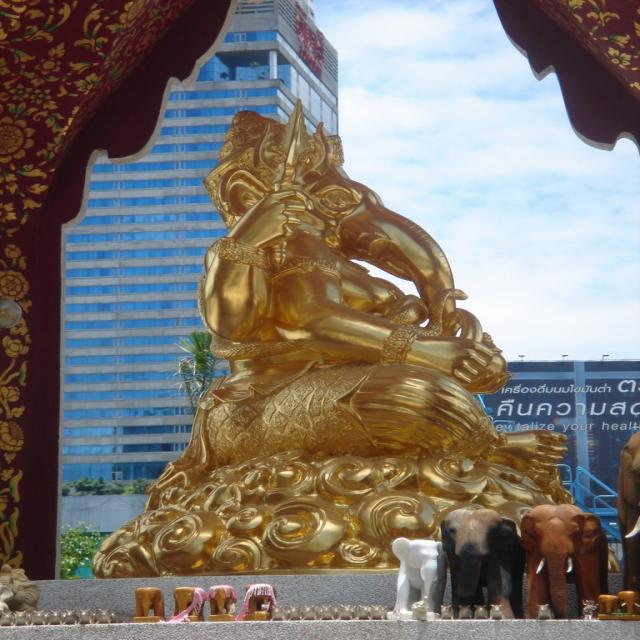elephant: (512, 504, 610, 616), (434, 508, 533, 612), (399, 540, 448, 613), (618, 436, 639, 603), (238, 578, 276, 615), (174, 587, 208, 621), (136, 586, 172, 615), (203, 588, 235, 620)
